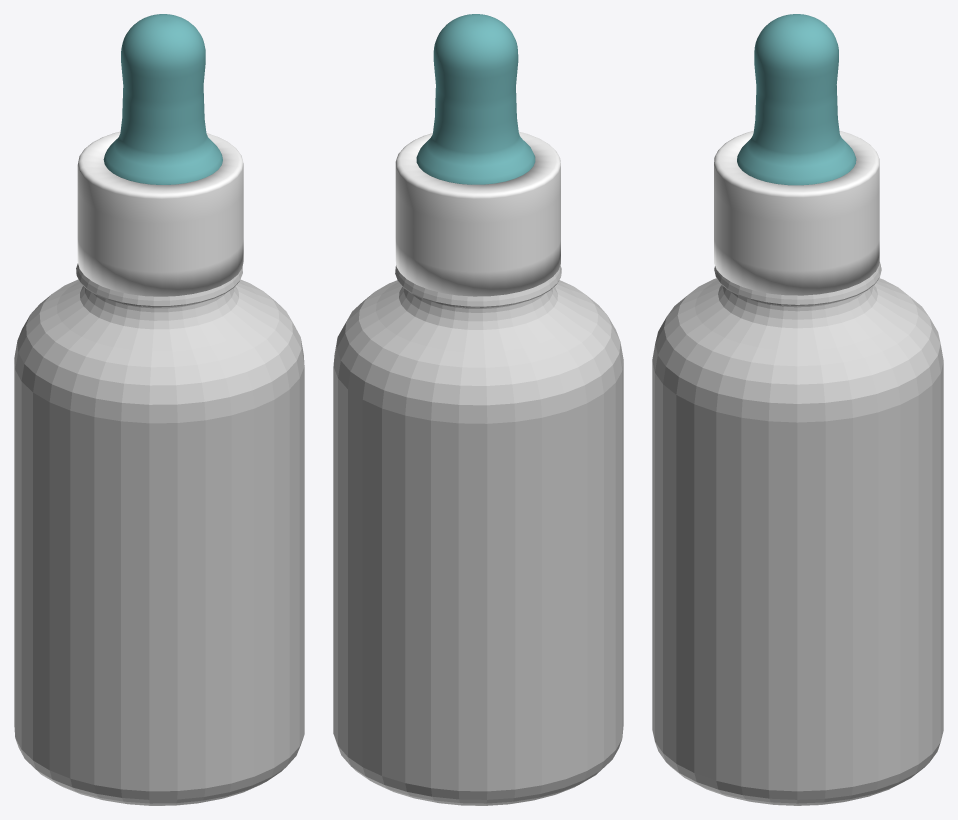
3 renders of one model, left to right at view 1: azimuth 30°, elevation 25°; view 2: azimuth 150°, elevation 25°; view 3: azimuth 270°, elevation 25°, orthographic.
Visible parts, largest first — view 1: Cylinder.034, Cylinder.035, bottom.031; view 2: Cylinder.034, Cylinder.035, bottom.031; view 3: Cylinder.034, Cylinder.035, bottom.031.
Part boxes in pixels (x1,y1,x2,y2): Cylinder.034: (14,263,304,805); Cylinder.035: (77,131,243,296); bottom.031: (103,14,222,184); Cylinder.034: (333,265,623,805); Cylinder.035: (395,131,560,296); bottom.031: (416,14,535,184); Cylinder.034: (652,262,943,805); Cylinder.035: (714,130,879,295); bottom.031: (737,14,856,185).
Size of the model in its own units: 0.6796 by 1.9 by 0.6796.
